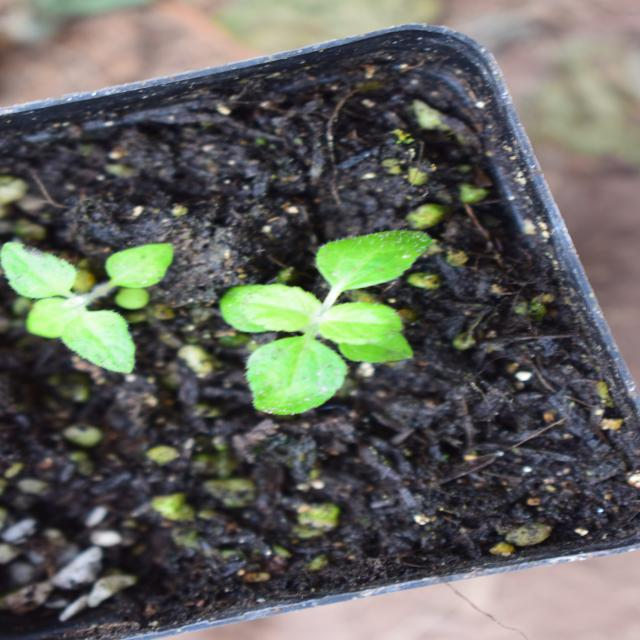billygoat_weed: (210, 209, 422, 447), (256, 0, 406, 190)
